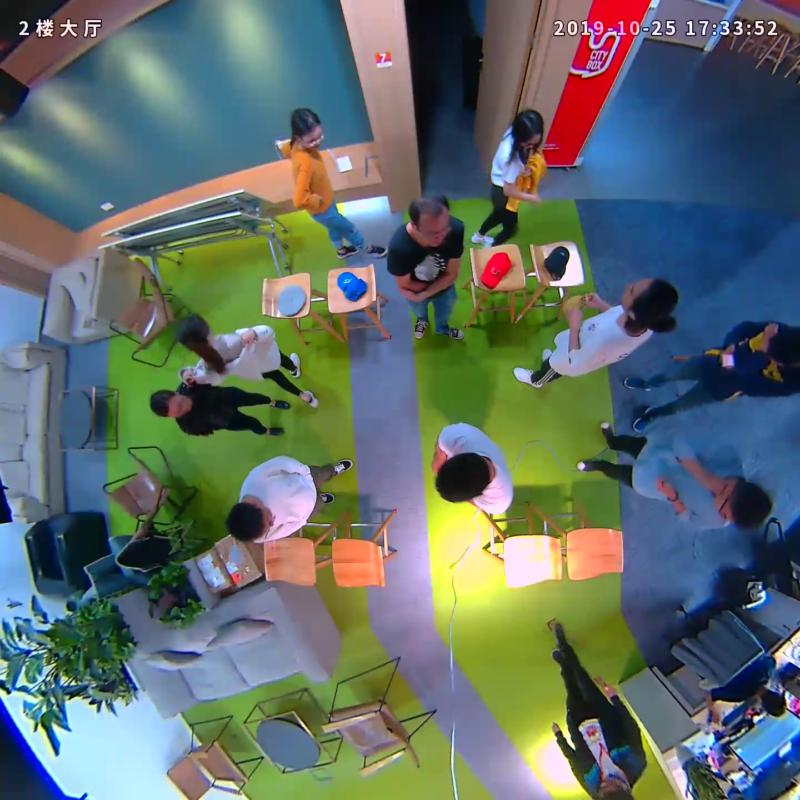head: (714, 479, 773, 532), (620, 279, 679, 326), (435, 452, 487, 503), (409, 193, 451, 247), (225, 502, 273, 542), (290, 106, 325, 152), (512, 108, 545, 149), (174, 314, 212, 347), (149, 390, 191, 417)
